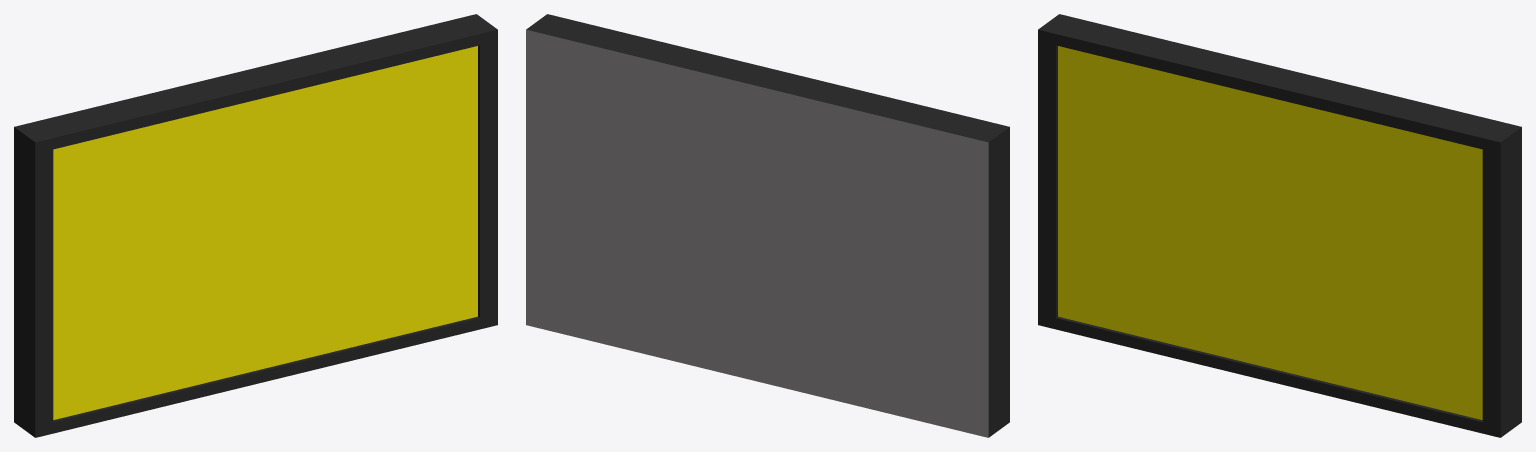
The model's file is placa.gltf.
The picture shows the model from 3 angles, left to right: view 1: azimuth 30°, elevation 25°; view 2: azimuth 150°, elevation 25°; view 3: azimuth 330°, elevation 25°; orthographic projection.
Parts seen in each view (by area): view 1: placa; view 2: placa; view 3: placa.
Boxes of the visible parts, left/top/right/bottom form: placa: left=14, top=14, right=497, bottom=437; placa: left=526, top=14, right=1009, bottom=437; placa: left=1038, top=14, right=1521, bottom=437.
Size of the model in its own units: 2 by 1.22 by 0.1599.
1 material, 1 textured.
